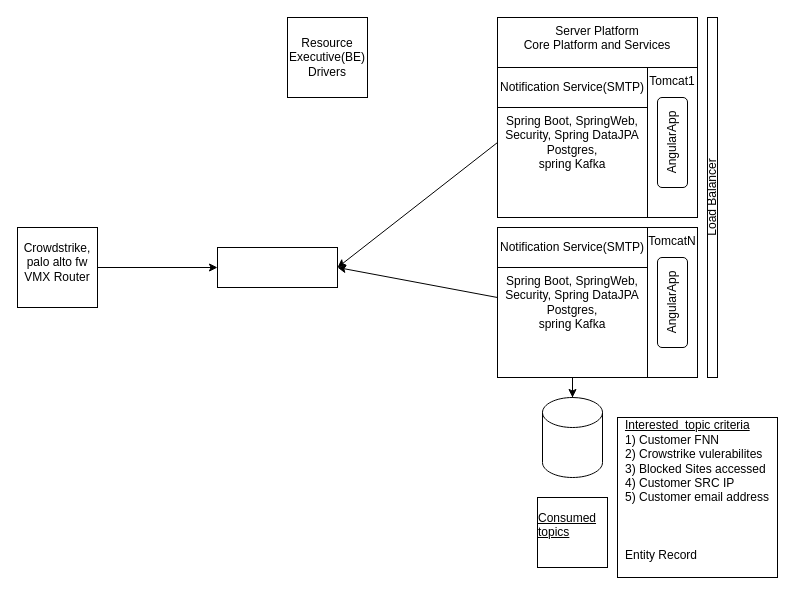
This 795x595 diagram has some shape labels left out. The centre of each missing label's shape, as x and y in pixels:
"Kafka" goes at (277,267).
"postgres" goes at (572,437).
